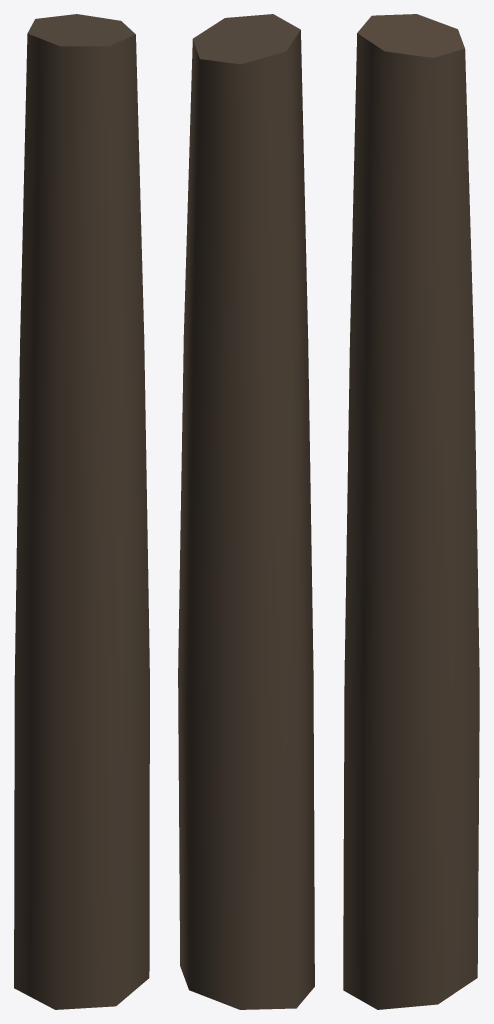
File: pier-pile-1.glb
3 views of the same model, side by side, from view 1: azimuth 30°, elevation 25°; view 2: azimuth 150°, elevation 25°; view 3: azimuth 330°, elevation 25° (orthographic).
Parts seen in each view (by area): view 1: pier-pile-1; view 2: pier-pile-1; view 3: pier-pile-1.
Boxes of the visible parts, x1,y1,x2,y2 form: pier-pile-1: (14,14,149,1009); pier-pile-1: (178,14,314,1009); pier-pile-1: (343,14,479,1009).
Size of the model in its own units: 0.3759 by 2.9 by 0.3671.
